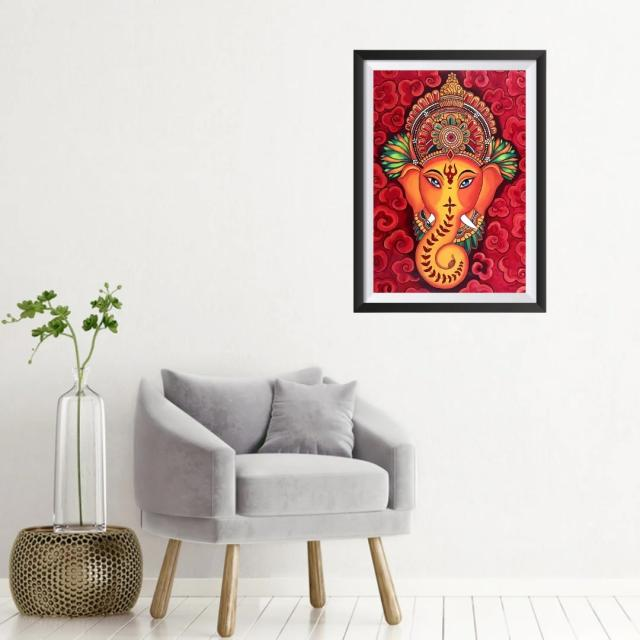painting: (353, 50, 546, 313)
